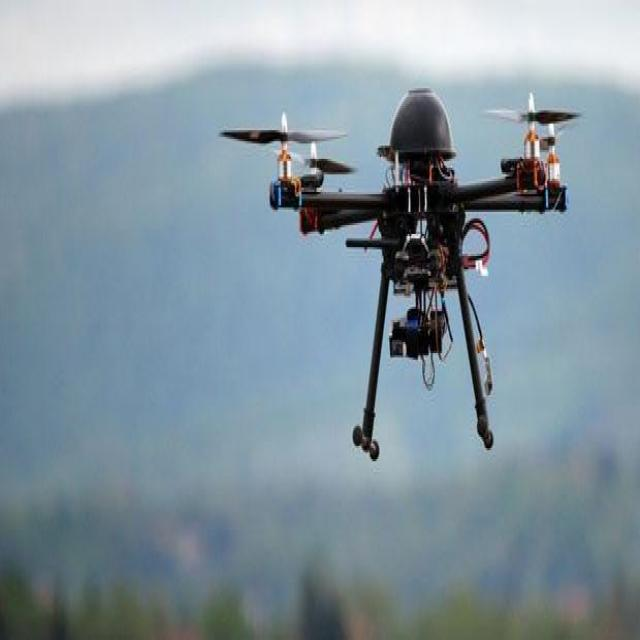UAV: (264, 82, 571, 470)
